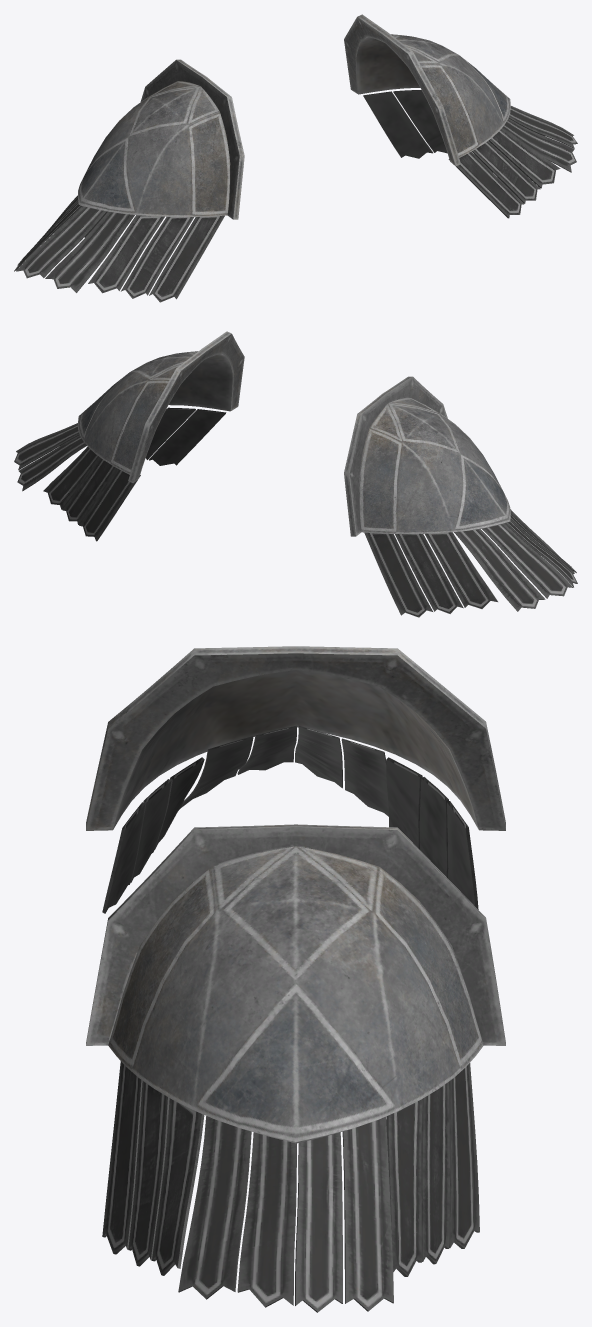
Rendered from sk_dwarf_erebor_pauldron_plate_heavy_f.fbx.
3 renders of one model, top to bottom at view 1: azimuth 30°, elevation 25°; view 2: azimuth 150°, elevation 25°; view 3: azimuth 270°, elevation 25°, orthographic. The views are drawn at different scales.
Visible parts, largest first — view 1: sk_dwarf_erebor_pauldron_plate_heavy_f; view 2: sk_dwarf_erebor_pauldron_plate_heavy_f; view 3: sk_dwarf_erebor_pauldron_plate_heavy_f.
Part boxes in pixels (x1=…): sk_dwarf_erebor_pauldron_plate_heavy_f: x1=14, y1=14, x2=577, y2=302; sk_dwarf_erebor_pauldron_plate_heavy_f: x1=14, y1=331, x2=577, y2=617; sk_dwarf_erebor_pauldron_plate_heavy_f: x1=86, y1=646, x2=505, y2=1312.
Bounding box in the file's own units: 0.9344 × 0.3048 × 0.2804.
1 material, 1 textured.
